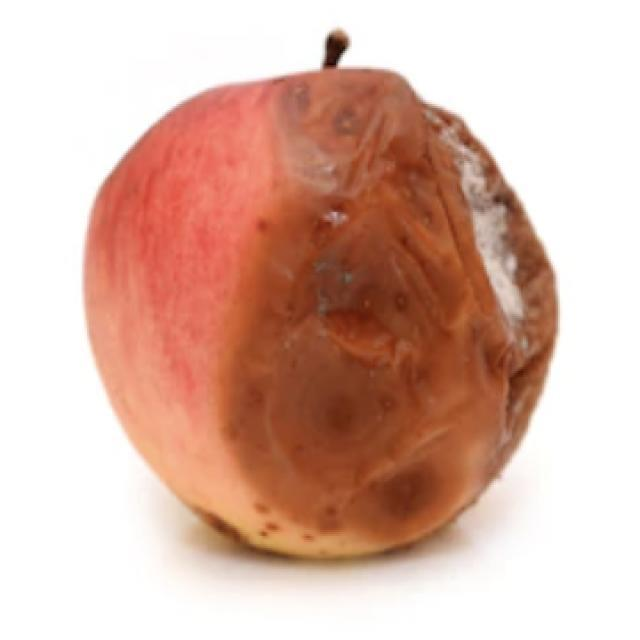Rotten: (72, 72, 568, 560)
